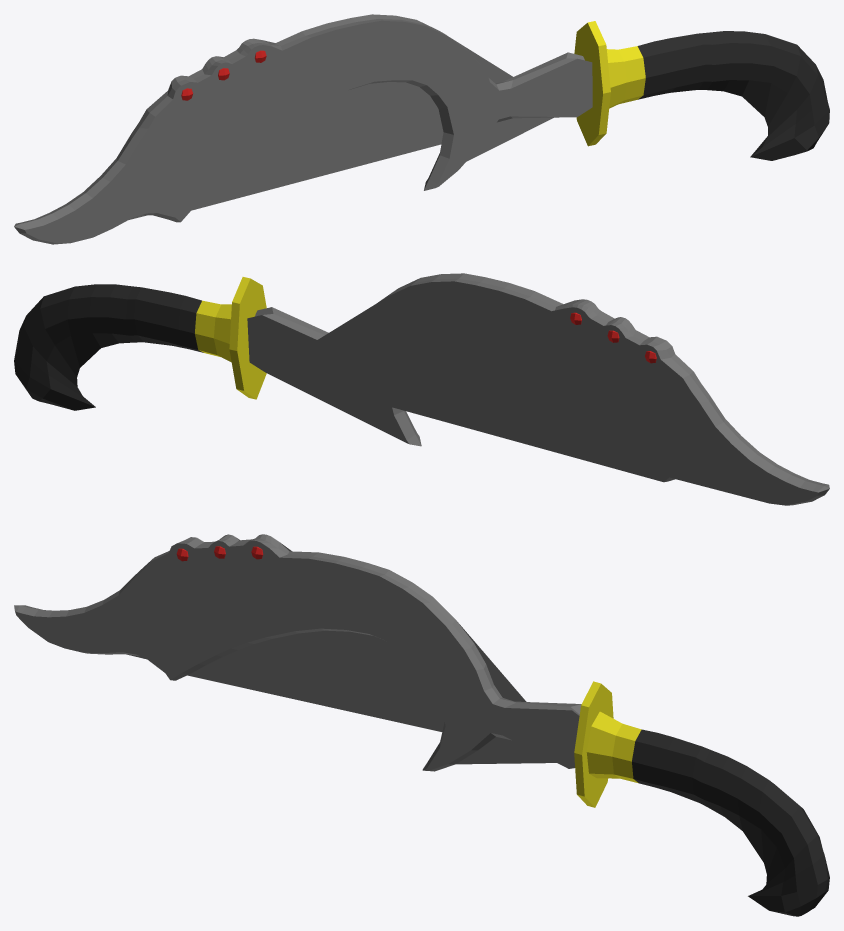
Rendered from KUJANG.fbx.
3 views of the same model, one above another, from view 1: azimuth 30°, elevation 25°; view 2: azimuth 150°, elevation 25°; view 3: azimuth 330°, elevation 25° (orthographic).
Parts seen in each view (by area): view 1: Kujang; view 2: Kujang; view 3: Kujang.
Part boxes in pixels (box(x1,y1,x2,y2)): Kujang: box(14, 14, 829, 244); Kujang: box(14, 273, 829, 505); Kujang: box(14, 534, 829, 916).
Bounding box in the file's own units: 176 × 49.3 × 11.88.
